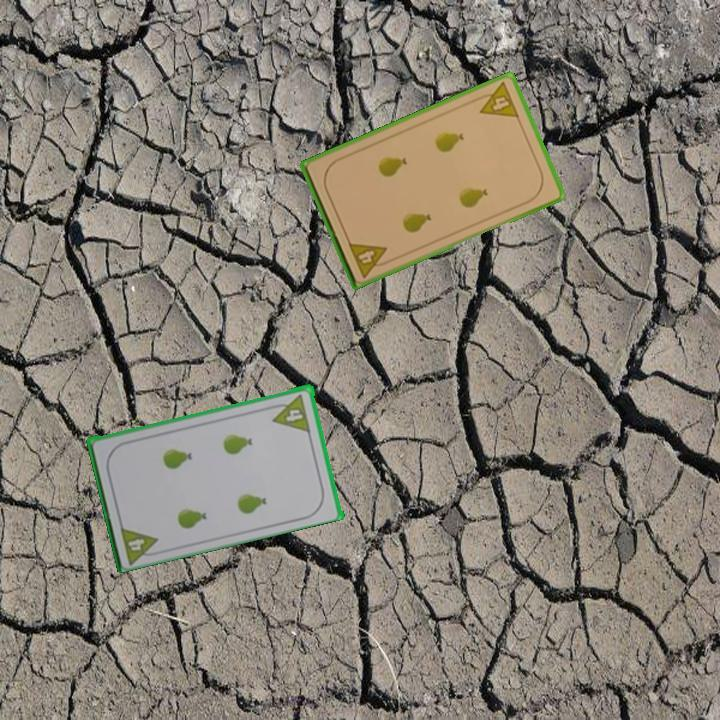4p: (471, 78, 522, 121), (345, 238, 394, 281), (117, 521, 164, 565), (267, 390, 313, 434)
